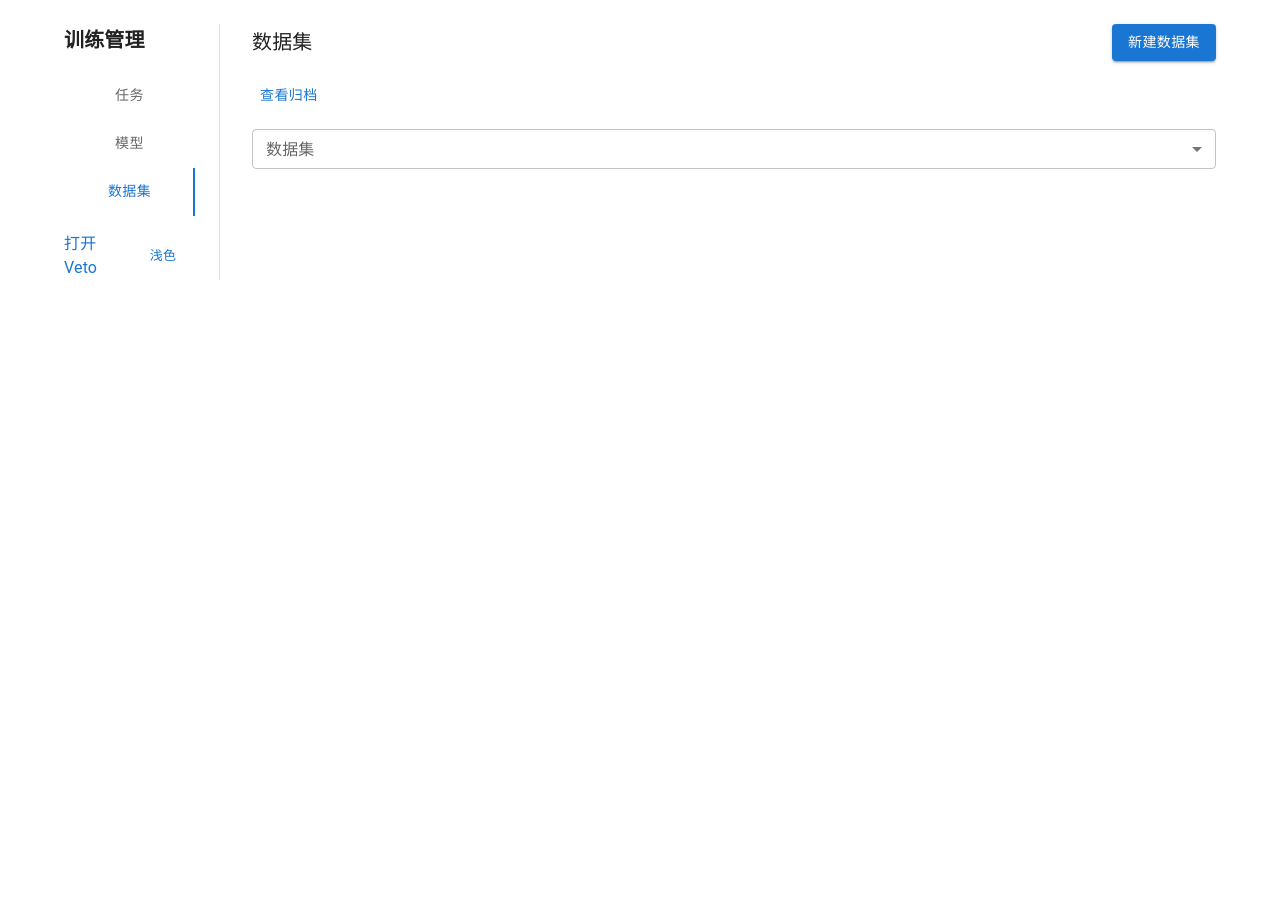
Scenario: users can add a dataset-level tool definition for later references
The image size is (1280, 900).
Press the mouse on the dropdown named "数据集": {"x": 734, "y": 149} [252,129,1216,169]
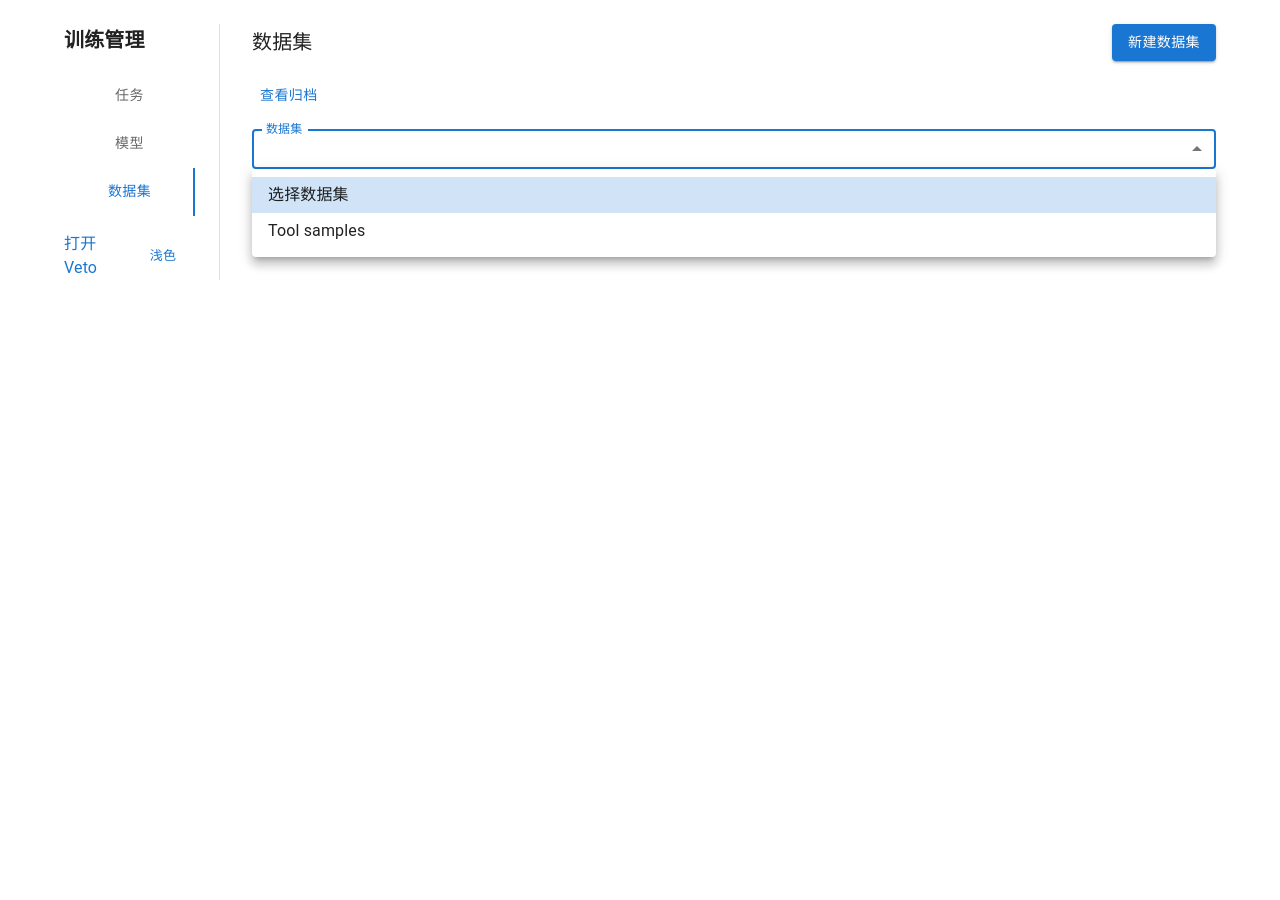
Click the option "Tool samples": {"x": 317, "y": 230} [268,221,365,240]
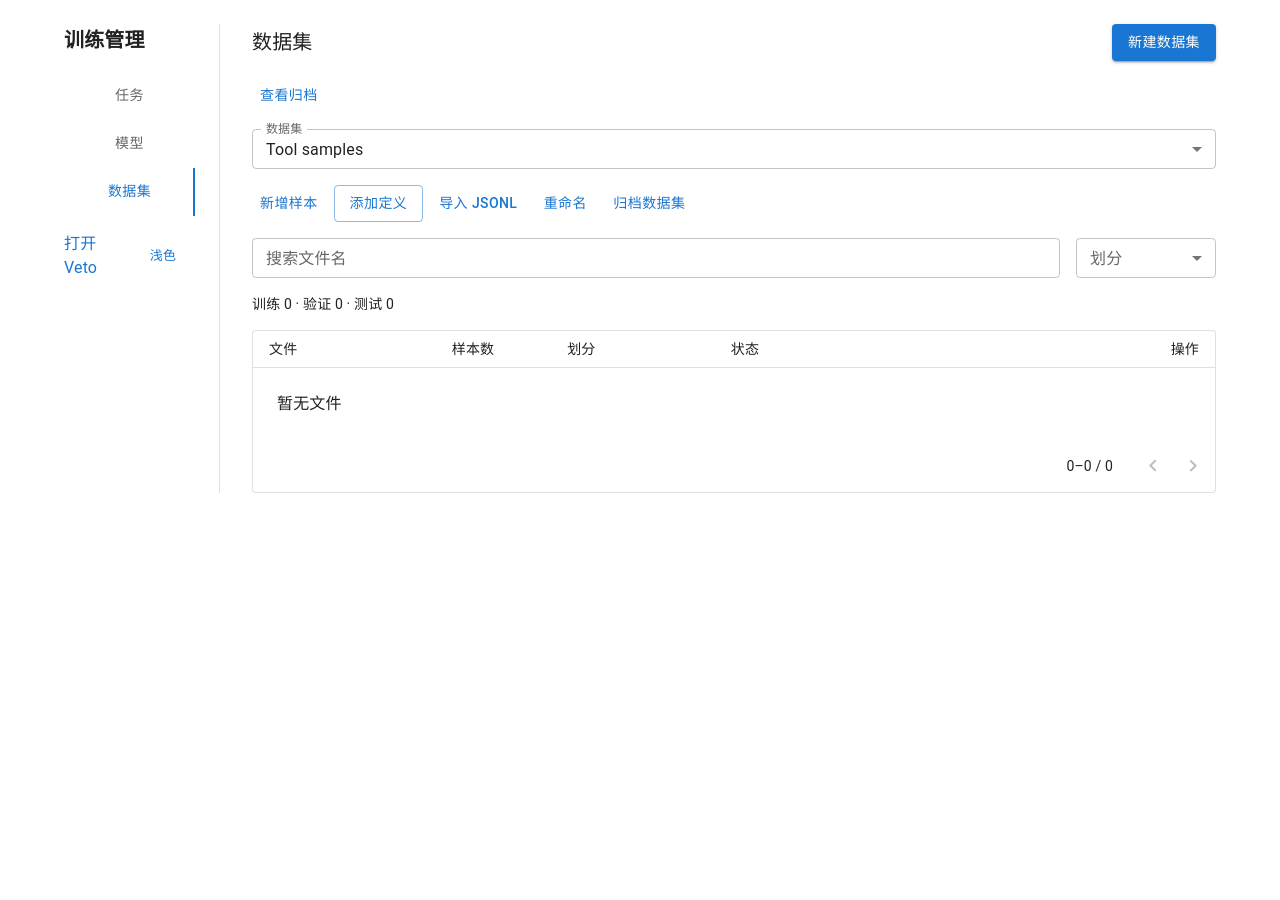
Click the button "添加定义": {"x": 378, "y": 203} [334,185,423,222]
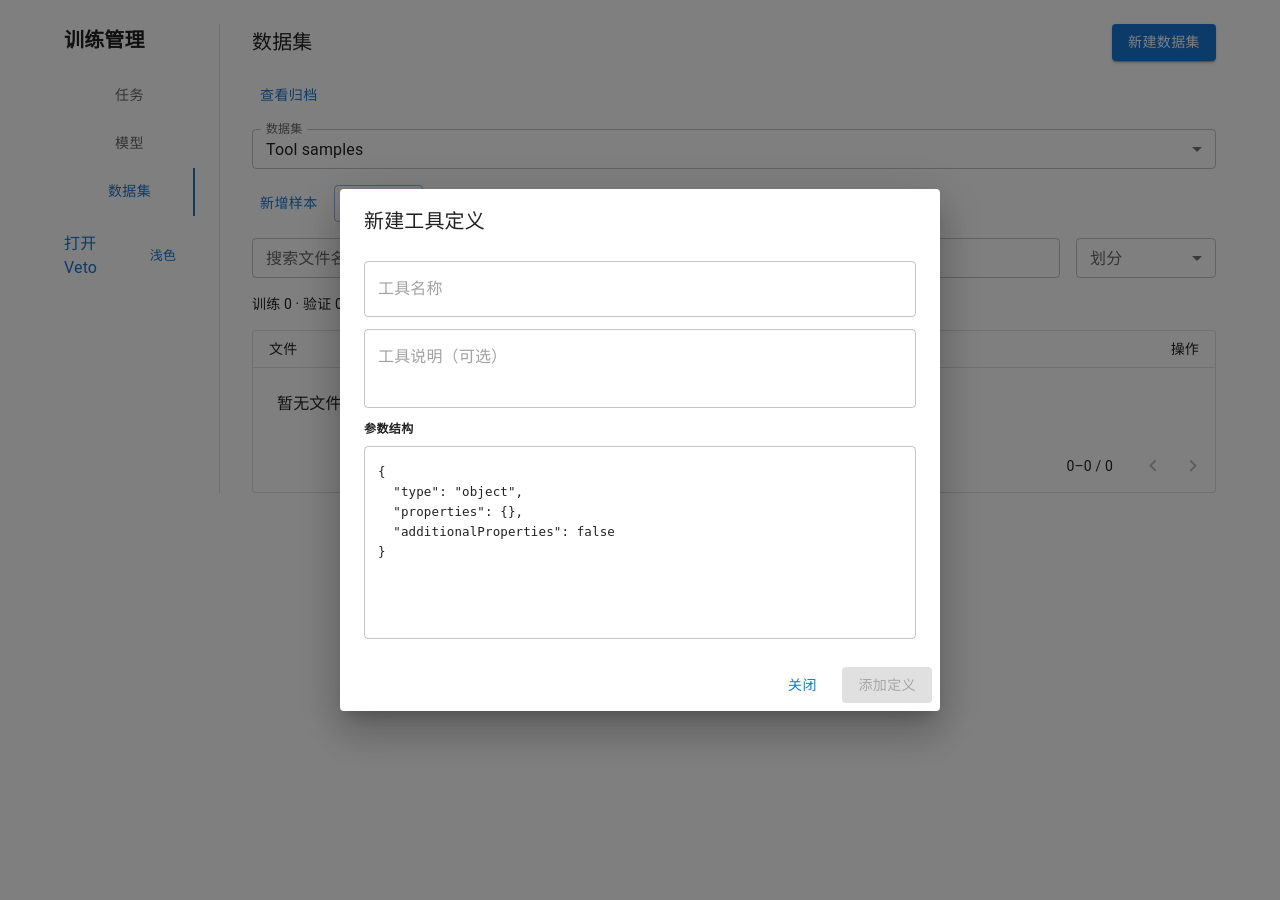
In the field labelled "工具名称": {"x": 640, "y": 289} [364,261,916,317], type "read_credential"
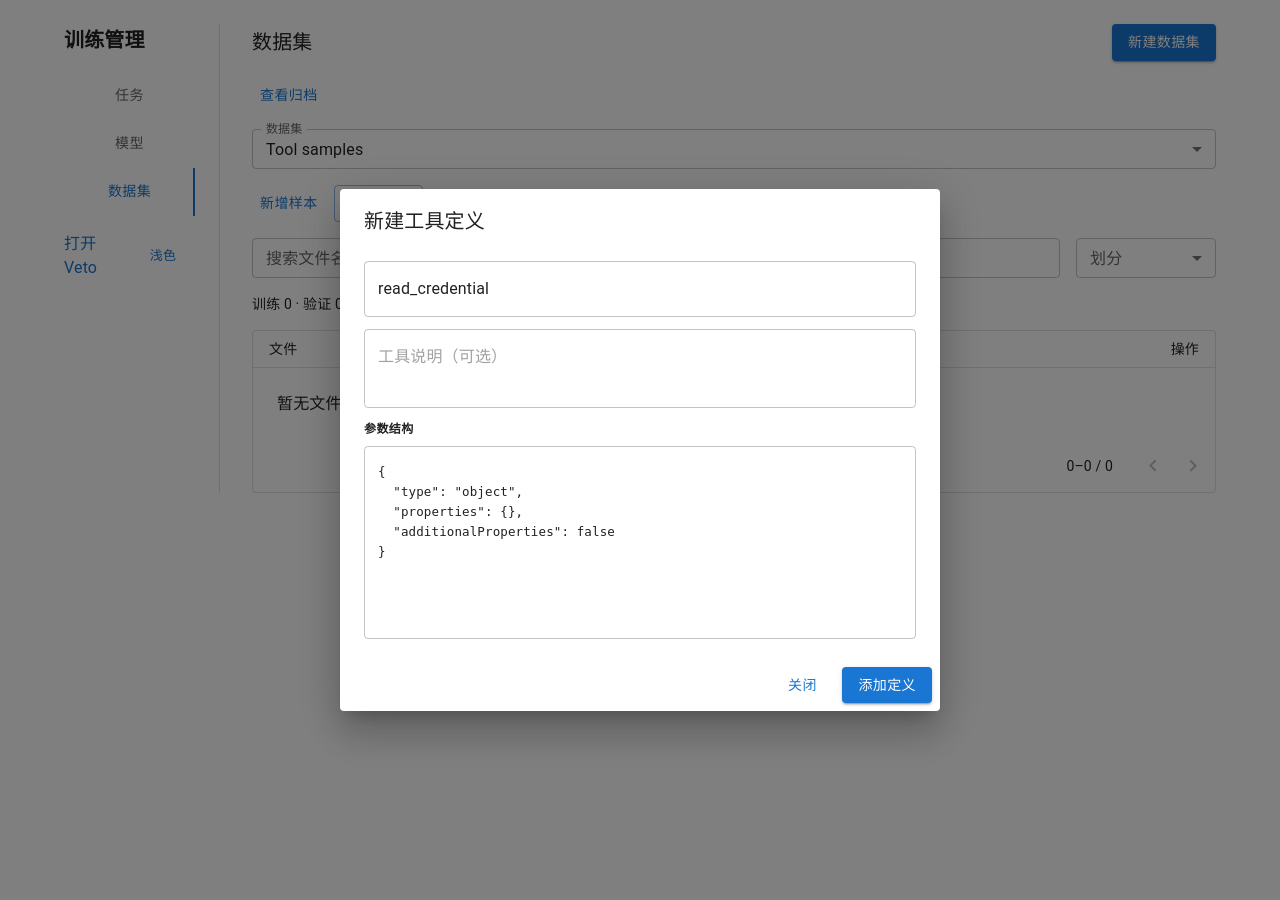
In the text box labelled "工具说明": {"x": 640, "y": 368} [378,345,902,391], type "Read a credential reference"
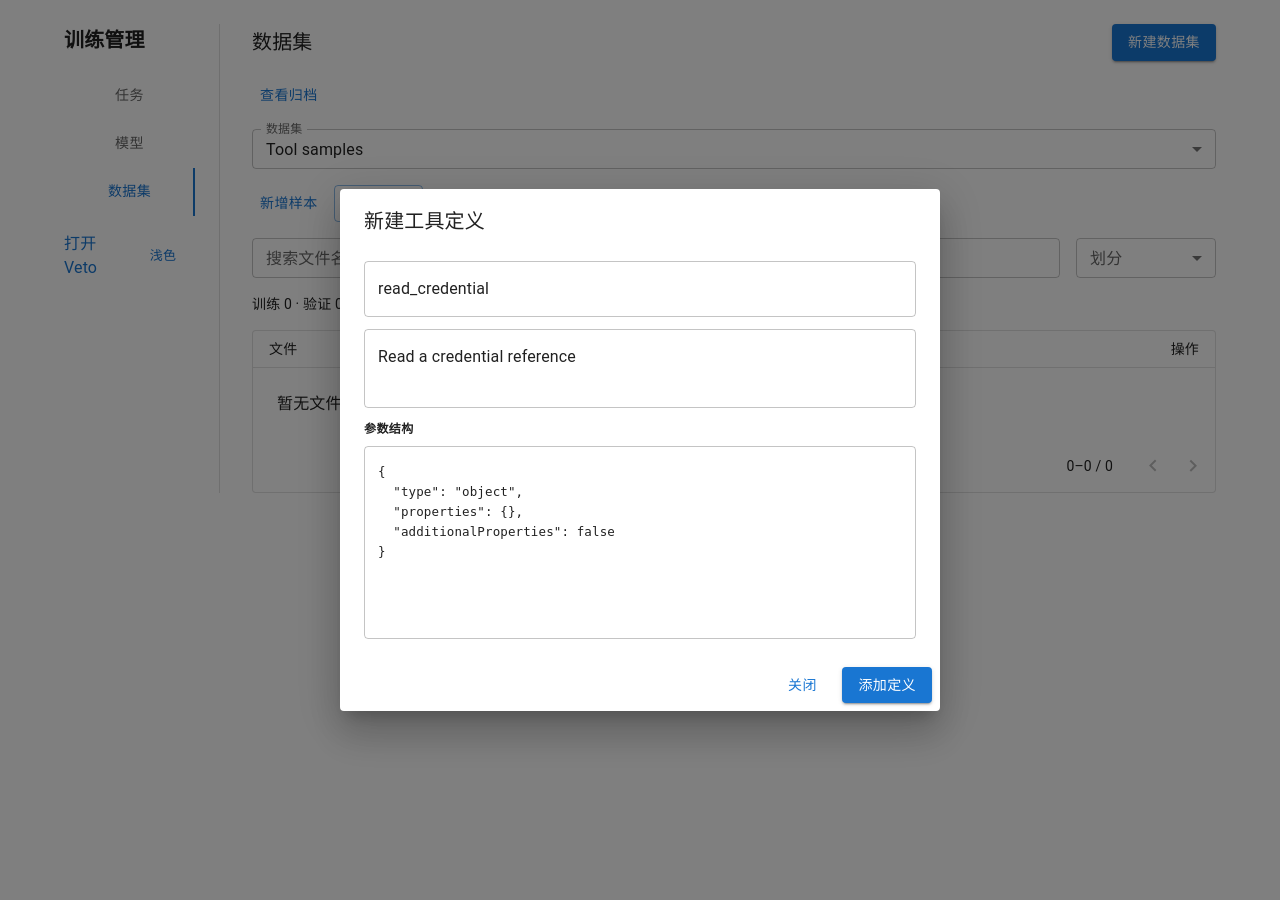
Click the button "添加定义": {"x": 887, "y": 685} [842,667,932,703]
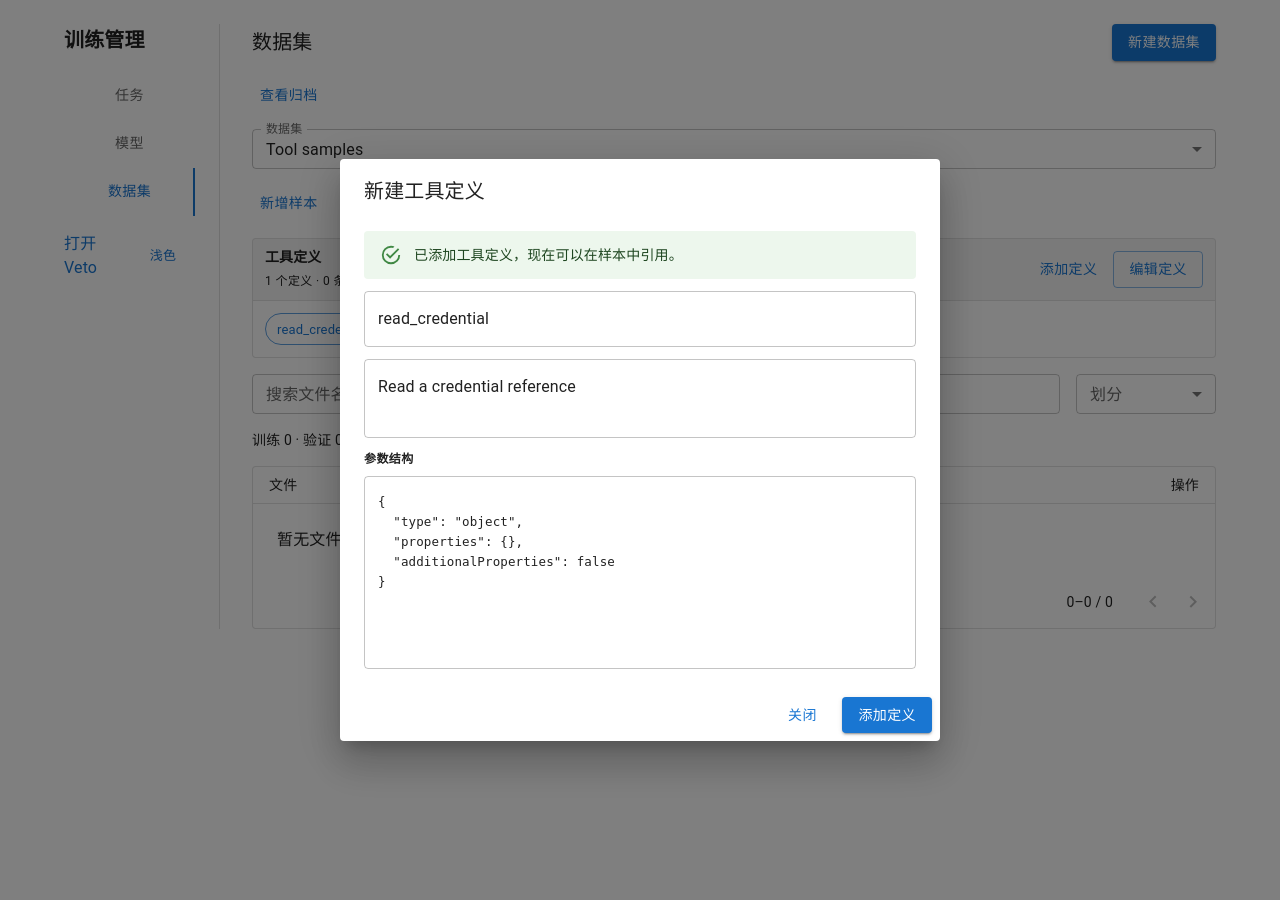
Expected: the text "已添加工具定义，现在可以在样本中引用。" is shown, [414,247,683,263]
Expected: the heading "工具定义" is shown, [265,248,321,264]
